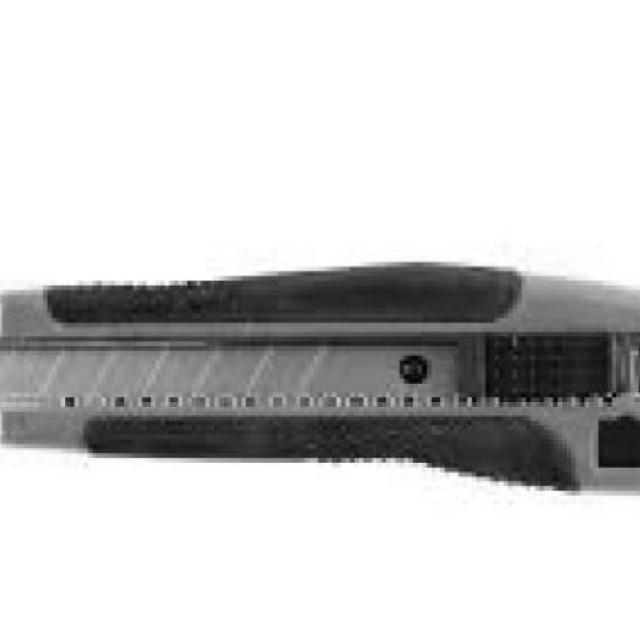estilete: (0, 263, 640, 492)
